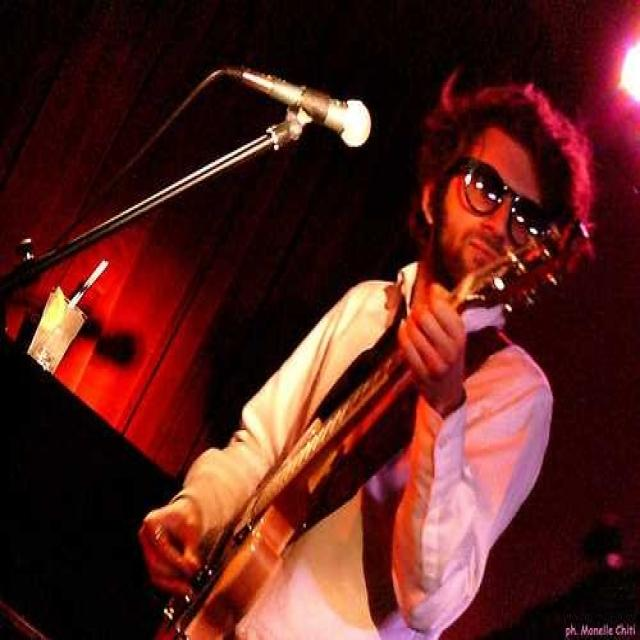microphone: (240, 68, 370, 145)
